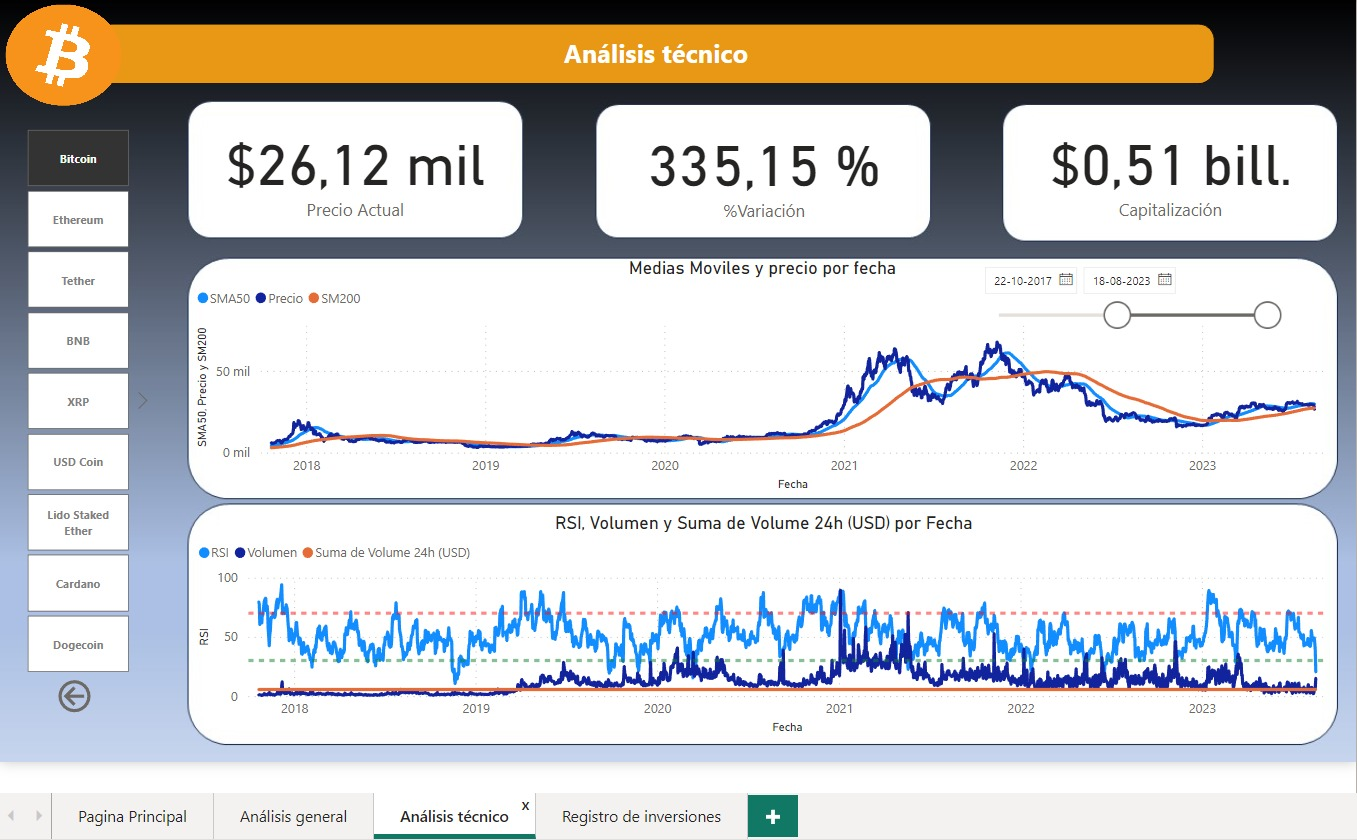

The dashboard page shown, as its layout file describes it:
{"tool":"powerbi","page":{"name":"Análisis técnico","canvas":[1280,720],"ordinal":2},"visuals":[{"type":"lineChart","title":"Medias Moviles y precio por fecha","fields":{"Category":["df.Timestamp"],"Y":["Avg(df.SMA50)","Avg(df.Price)","Avg(df.SMA200)"]},"box":[180.9,243.6,1078.2,224.3],"z":0},{"type":"textbox","box":[90.5,22.9,1055.3,56.7],"z":1000},{"type":"slicer","fields":{"Values":["df.Timestamp"]},"box":[915.9,243.1,300.7,70.2],"z":2000},{"type":"lineChart","fields":{"Y":["Avg(df.RSI)"],"Category":["df.Timestamp"],"Y2":["Avg(df.Volume)","Sum(top_crypto_df.Volume 24h (USD))"]},"box":[182.1,484.8,1078.2,213.5],"z":3000},{"type":"card","fields":{"Values":["Sum(top_crypto_df.Current Price (USD))"]},"box":[193,97.1,285,126.5],"z":4000},{"type":"card","fields":{"Values":["Sum(top_crypto_df.Market Cap (USD))"]},"box":[948.2,97.1,311.8,126.5],"z":5000},{"type":"image","box":[0,0,119.4,106.1],"z":6000},{"type":"card","fields":{"Values":["Medidas.var"]},"box":[568.8,106.5,303.2,109],"z":7000},{"type":"actionButton","box":[50.1,637.7,40.1,40.1],"z":8000},{"type":"slicer","fields":{"Values":["top_crypto_df.Coin"]},"box":[0,117.1,145.7,525.7],"z":8001}]}

Visuals, with their boxes on the page's 1280x720 design canvas (x1, y1, x2, y2). These are canvas units, not pixel positions in the 1357x840 screenshot, which may show the page scaled, cropped or inside an application window:
"Medias Moviles y precio por fecha" lineChart: Rect(181, 244, 1259, 468)
textbox: Rect(90, 23, 1146, 80)
slicer - df.Timestamp: Rect(916, 243, 1217, 313)
lineChart - Avg(df.RSI) x df.Timestamp: Rect(182, 485, 1260, 698)
card - Sum(top_crypto_df.Current Price (USD)): Rect(193, 97, 478, 224)
card - Sum(top_crypto_df.Market Cap (USD)): Rect(948, 97, 1260, 224)
image: Rect(0, 0, 119, 106)
card - Medidas.var: Rect(569, 106, 872, 216)
actionButton: Rect(50, 638, 90, 678)
slicer - top_crypto_df.Coin: Rect(0, 117, 146, 643)
